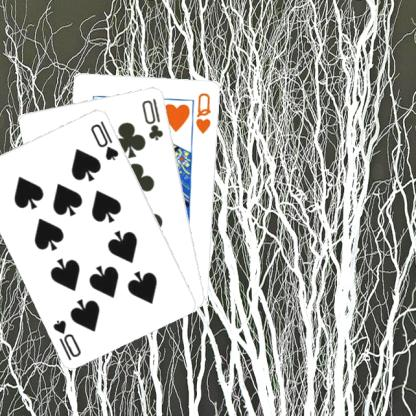10C: (141, 95, 167, 142)
10S: (52, 316, 85, 362), (90, 118, 122, 161)
QH: (195, 89, 215, 135)
